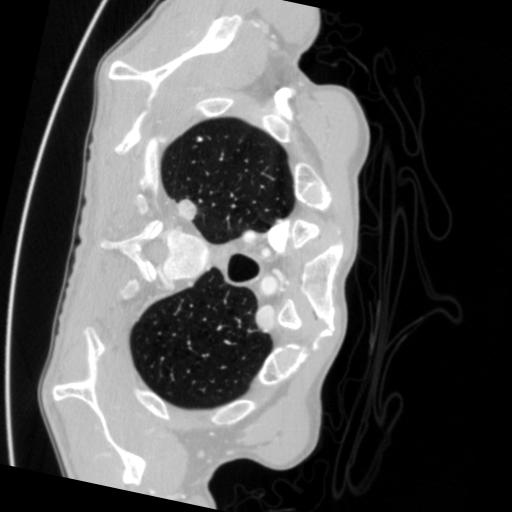nodule: (174, 198, 201, 225)
